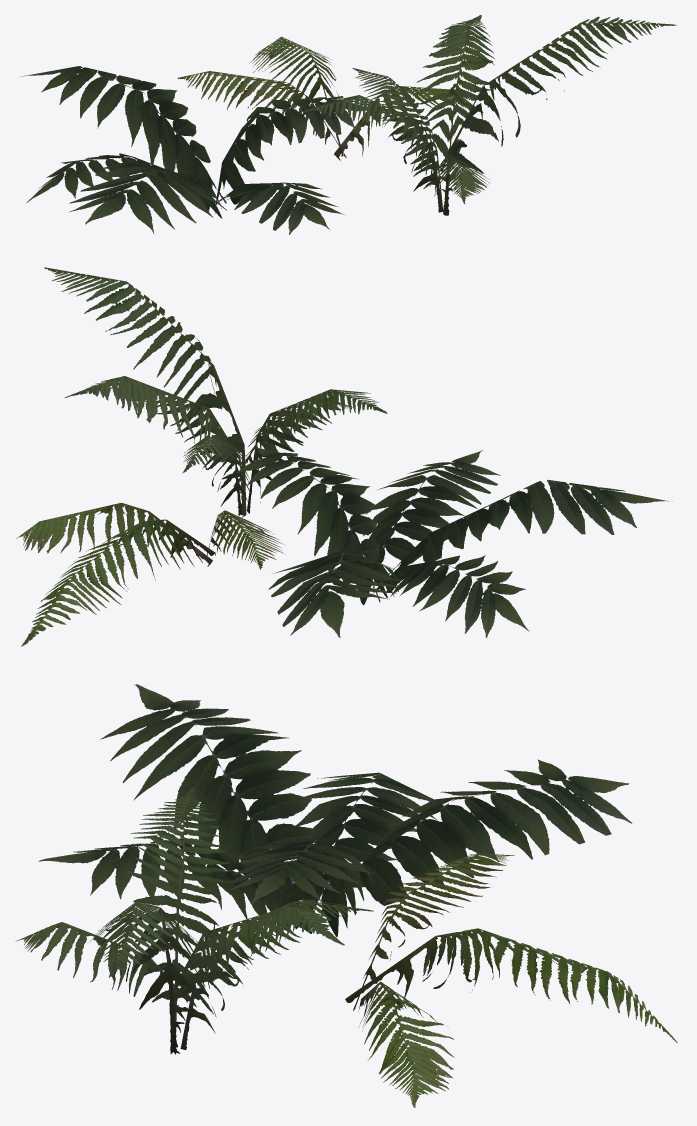
The model's file is prop_fernba.FBX.
3 renders of one model, top to bottom at view 1: azimuth 30°, elevation 25°; view 2: azimuth 150°, elevation 25°; view 3: azimuth 270°, elevation 25°, orthographic. The views are drawn at different scales.
Parts seen in each view (by area): view 1: prop_fernba; view 2: prop_fernba; view 3: prop_fernba.
Part boxes in pixels (x1=…): prop_fernba: x1=20, y1=15, x2=676, y2=234; prop_fernba: x1=16, y1=267, x2=672, y2=646; prop_fernba: x1=15, y1=684, x2=677, y2=1107.
Size of the model in its own units: 2.97 by 2.16 by 0.8721.
1 material, 1 textured.
